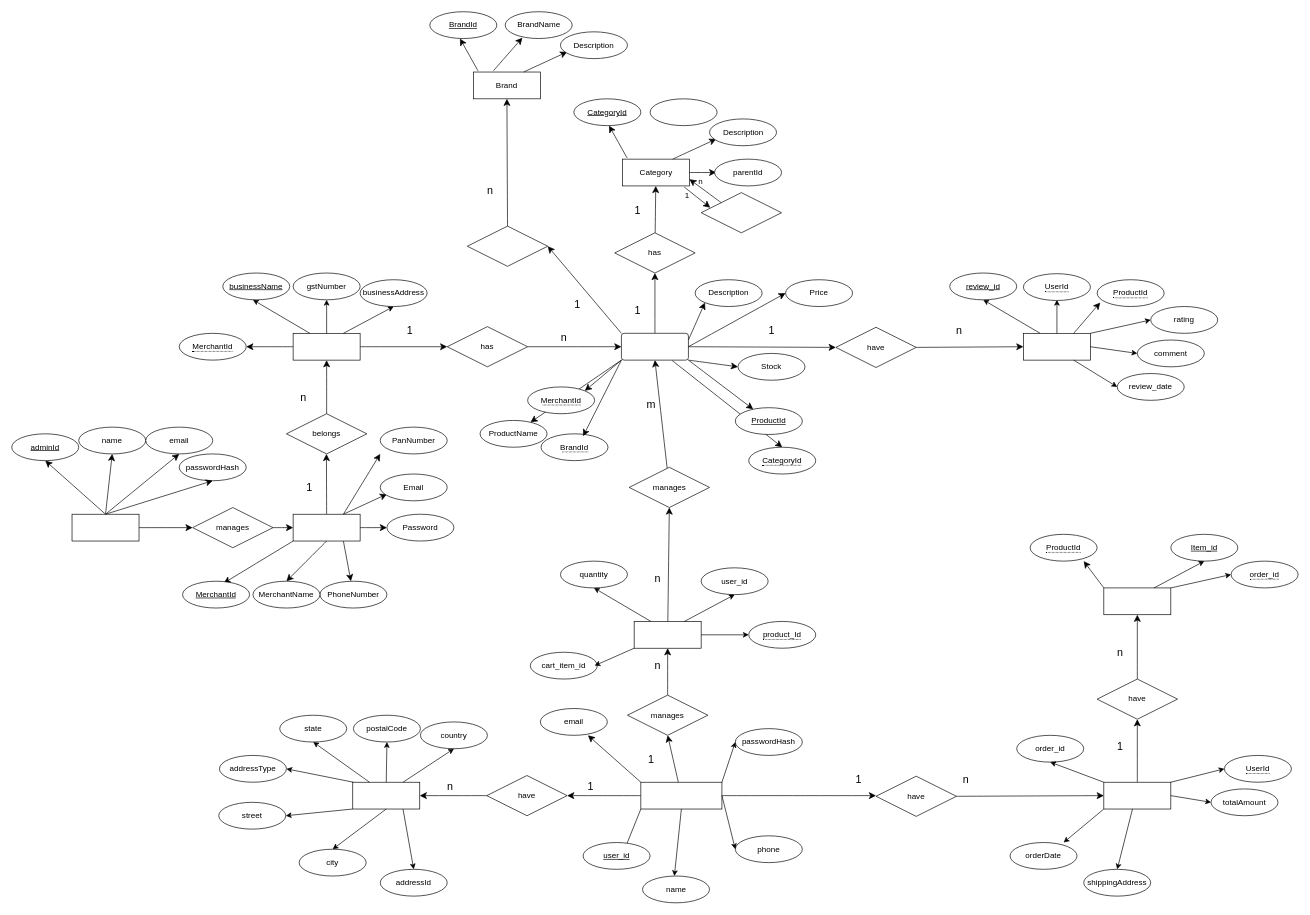
The diagram is 1310 pixels wide and 915 high, and some of its shapes have lost their labels. The shapes that lost their labels are listed below. From the top down, each one's centre as x and y in pixels, then its label:
At point (683, 112): "CategoryName".
At point (741, 212): "parent".
At point (507, 245): "Produces".
At point (326, 346): "BusinessDetails".
At point (654, 346): "Product".
At point (1056, 346): "Reviews".
At point (105, 527): "Admin".
At point (326, 527): "Merchant".
At point (1137, 601): "order_items".
At point (667, 634): "Cart".
At point (386, 795): "Address".
At point (681, 795): "User".
At point (1137, 795): "Orders".
